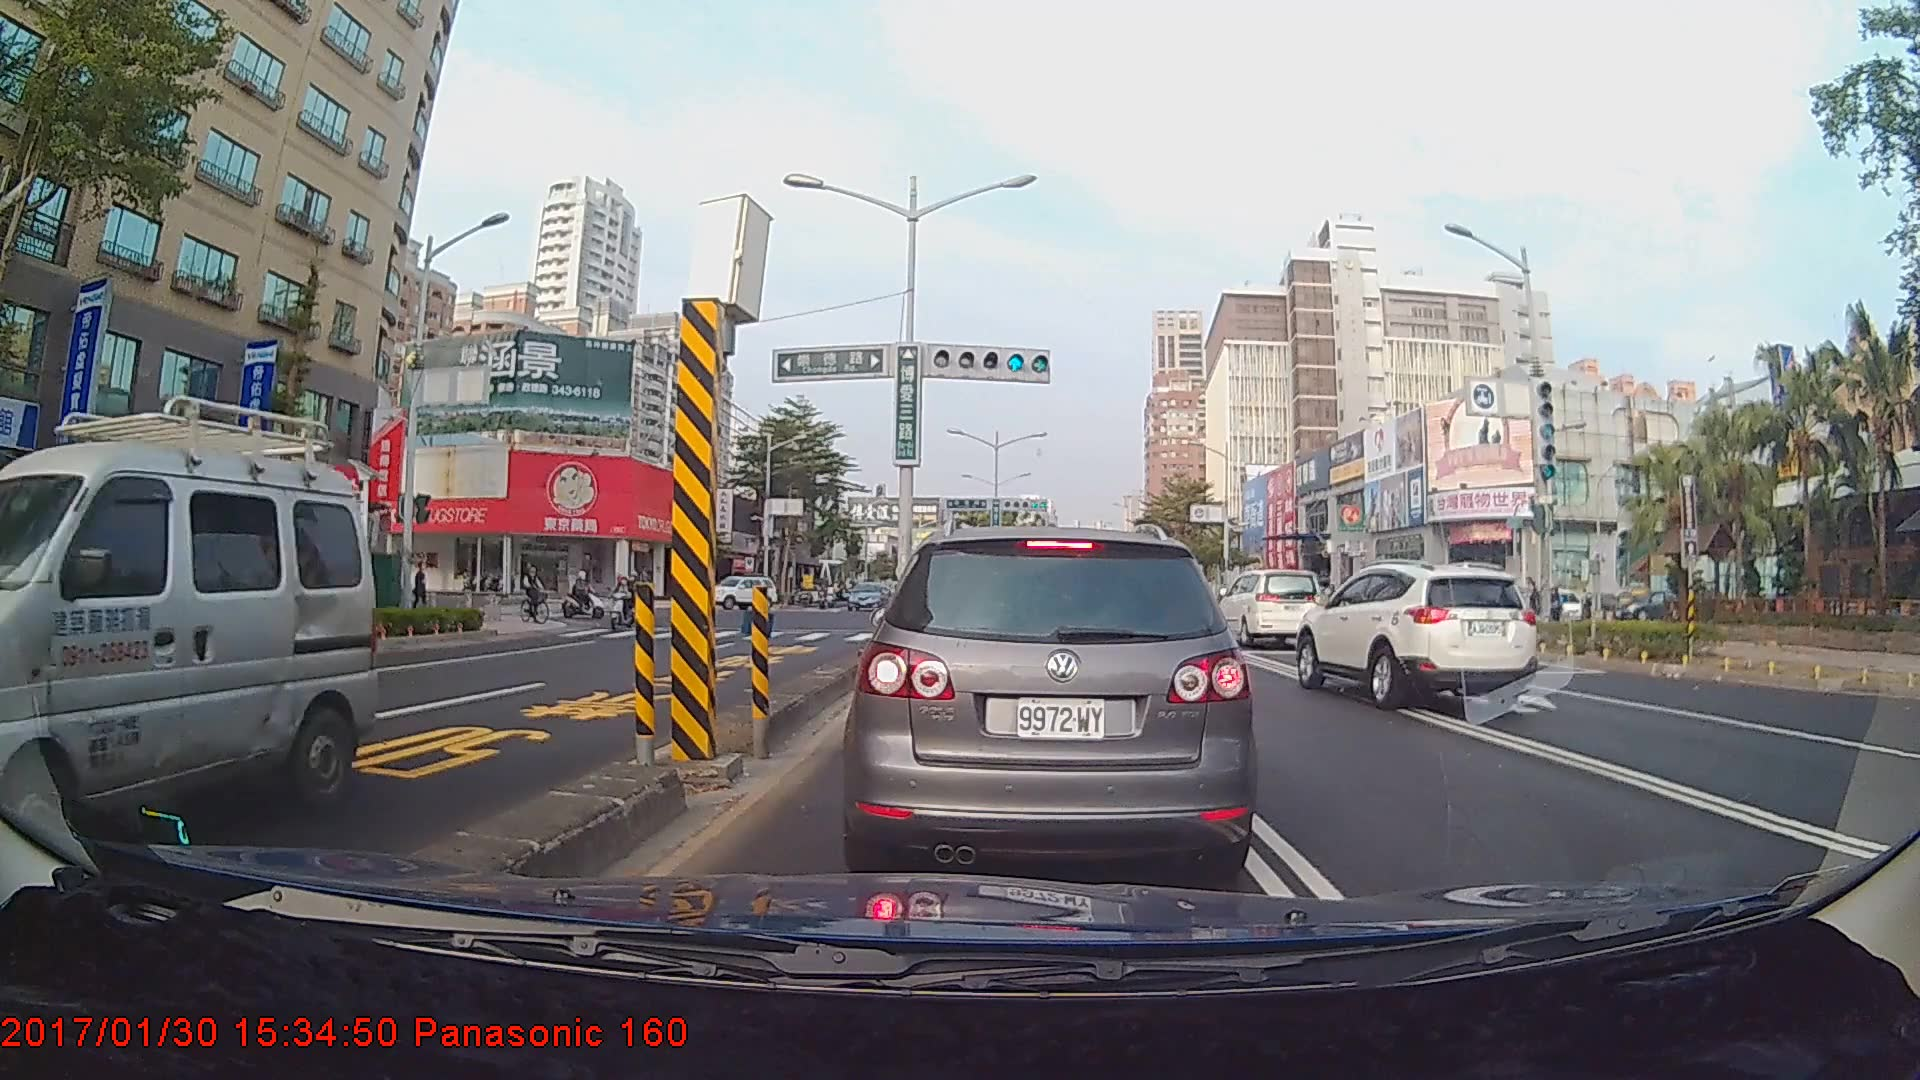pedestrian: (408, 558, 432, 621)
rider: (562, 568, 614, 625), (518, 559, 553, 629)
vehicle: (0, 401, 380, 848), (854, 521, 1251, 873), (1294, 561, 1538, 708), (1210, 566, 1325, 647), (848, 581, 888, 612)
